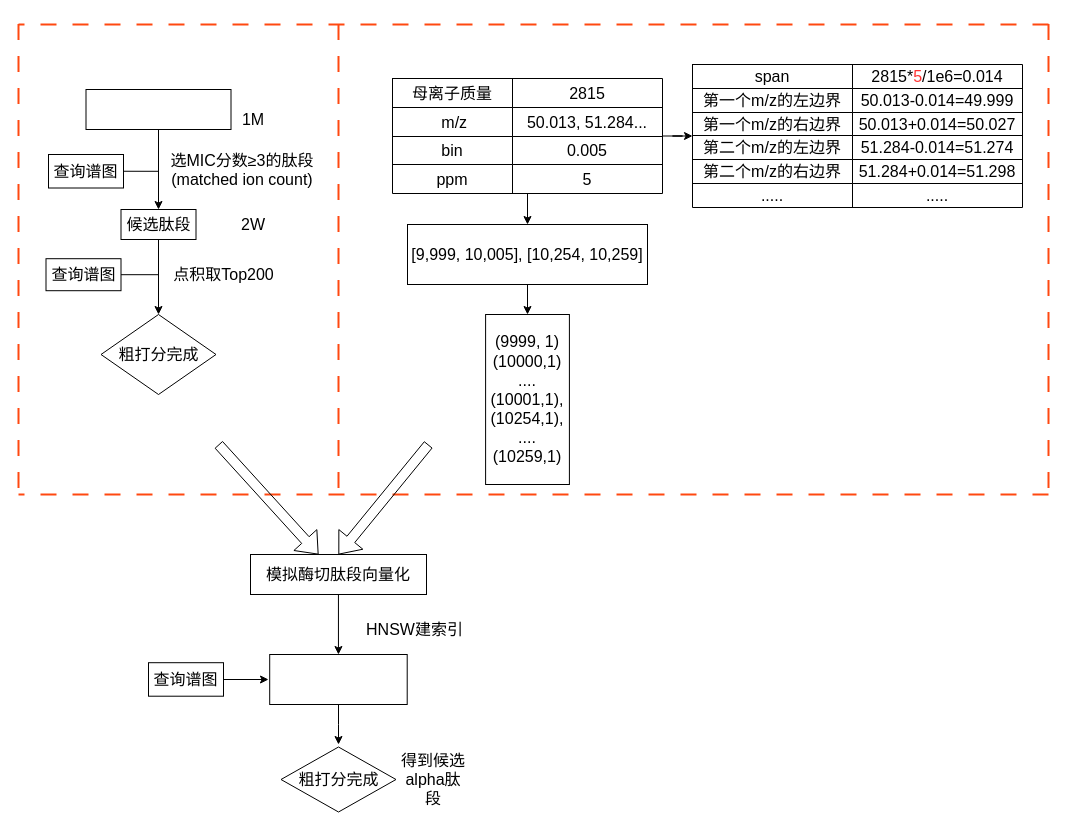
The diagram is 1067 pixels wide and 830 high, and some of its shapes have lost their labels. Here are the shapes that lost their labels. From the top down, the centre of each, then its label:
(158,109): 模拟酶切肽段离子索引
(338,679): 查询内积距离最近的k个
